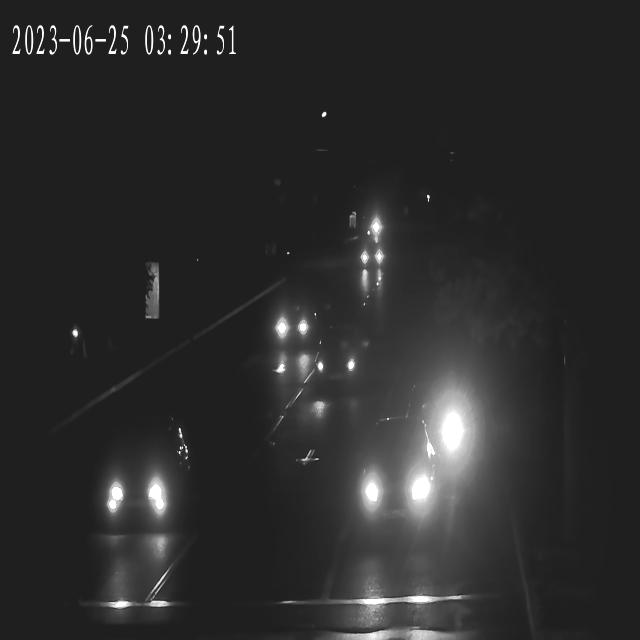Car: (85, 416, 189, 534), (344, 427, 441, 531), (399, 350, 469, 478), (318, 326, 367, 386), (266, 301, 322, 350), (356, 239, 384, 267)
